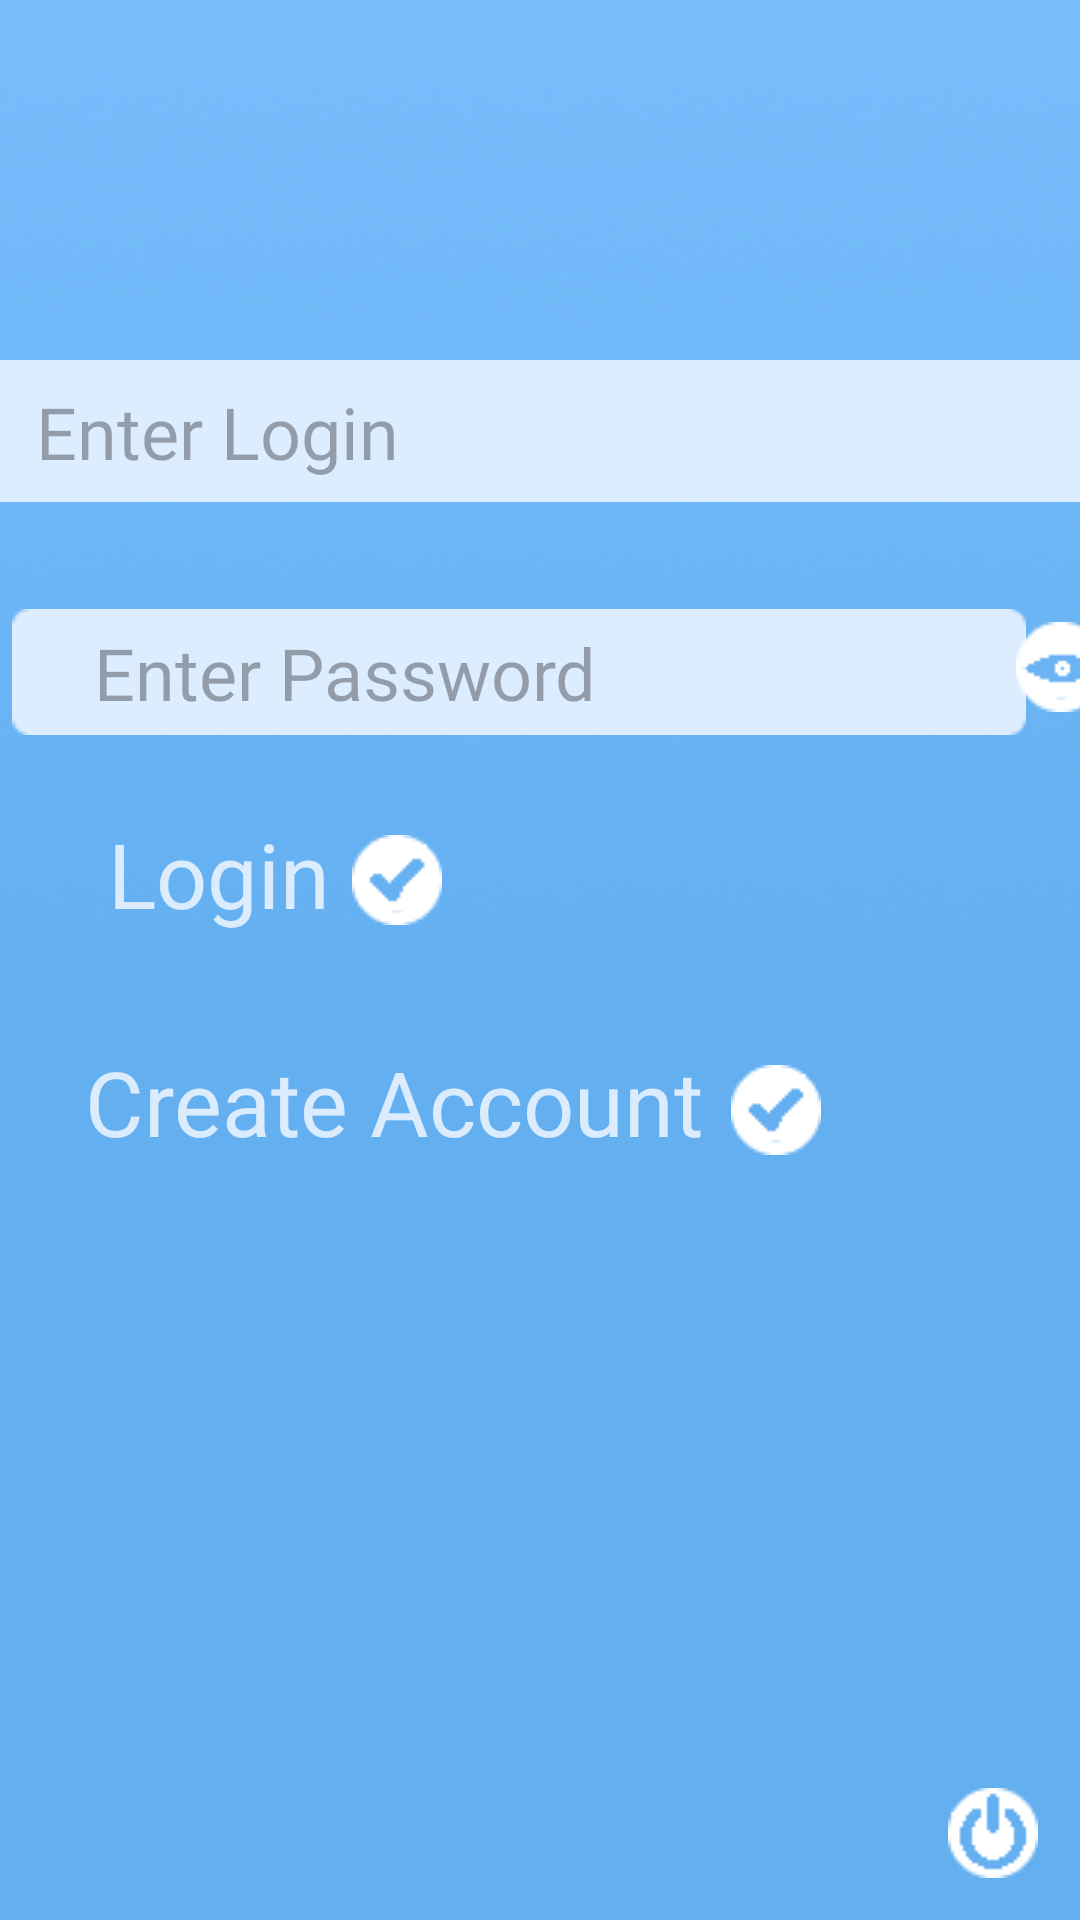

Screen size 1080px×1920px. Icon name, then its center in pixels as [x,y]:
acsept: [397,880], [776,1110]
off: [993,1833]
